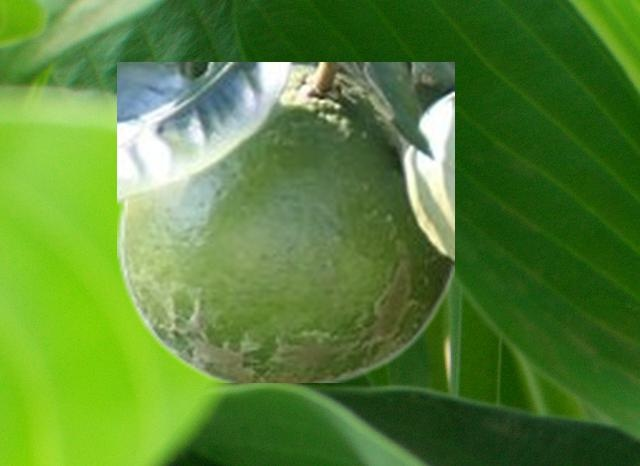dalandan: (117, 62, 453, 381)
